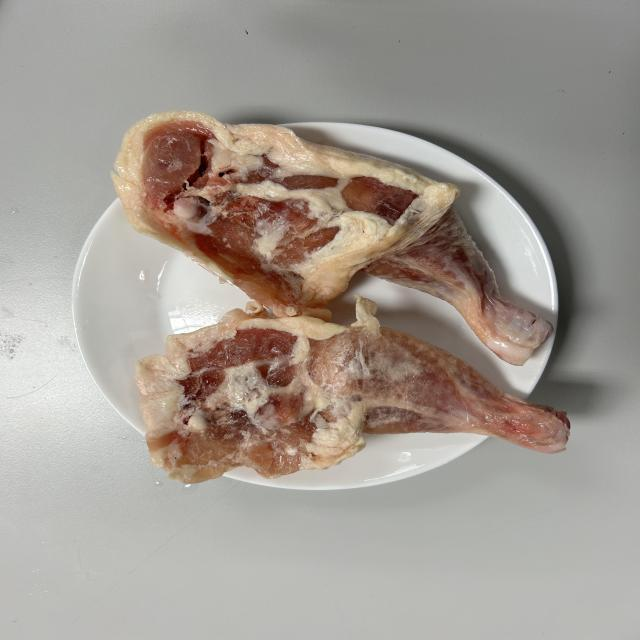quater: (123, 111, 553, 358), (133, 306, 571, 487)
